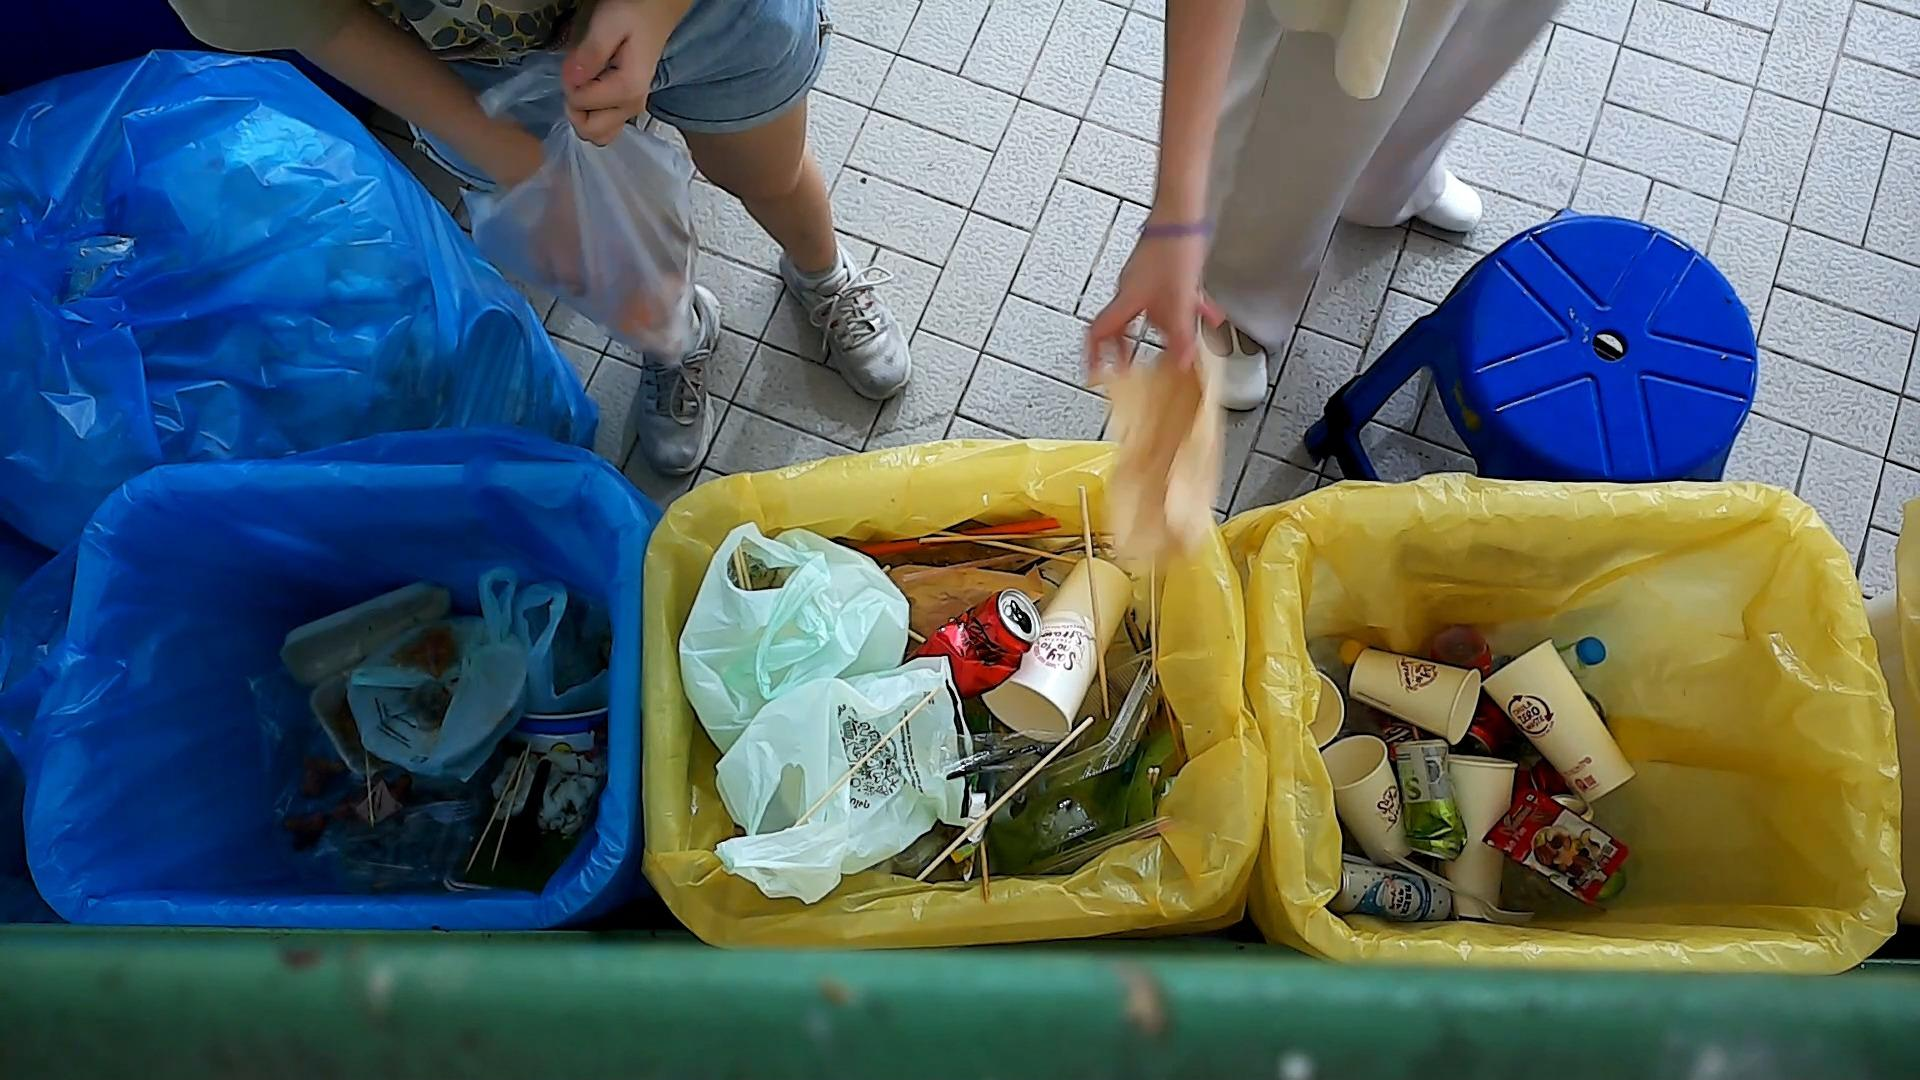can: (911, 587, 1046, 707), (1391, 733, 1470, 864), (1328, 858, 1455, 926)
dirty food container: (450, 738, 611, 895)
filled plastic bag: (456, 51, 725, 376), (676, 513, 914, 783), (335, 563, 545, 804), (522, 570, 616, 719)
food container: (992, 641, 1163, 808), (520, 704, 617, 756)
paper bag: (1088, 319, 1226, 589), (887, 560, 1051, 640)
plastic bag: (703, 644, 985, 910)
plastic cutlery: (1377, 844, 1539, 928), (922, 725, 1097, 786)
snack packaging: (1478, 781, 1633, 907)
sticks: (914, 713, 1096, 889), (786, 683, 943, 835), (1073, 483, 1113, 720), (468, 745, 525, 880), (931, 527, 1080, 567), (496, 742, 530, 874), (916, 524, 1114, 545), (1146, 551, 1162, 688)
straw: (894, 549, 1035, 583)
zero waste cup: (980, 554, 1137, 748), (1477, 634, 1639, 810), (1433, 749, 1520, 923), (1345, 642, 1484, 748), (1321, 731, 1416, 866)
